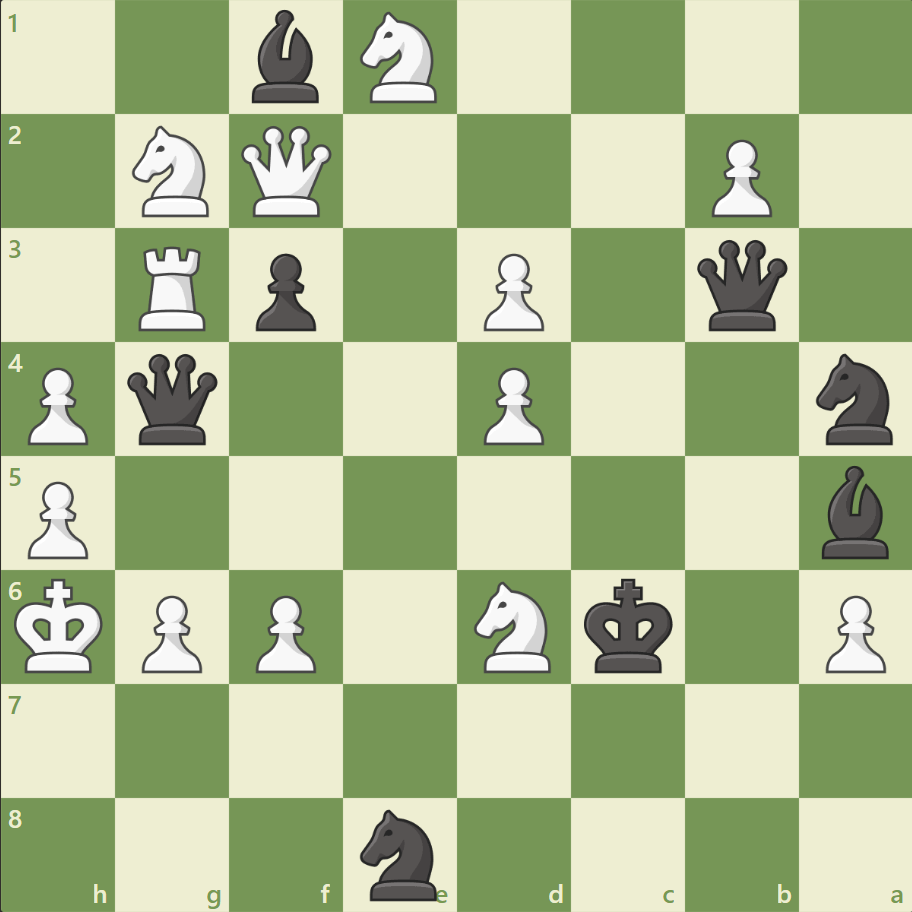K: (11, 571, 111, 679)
N: (351, 7, 449, 110), (124, 121, 222, 223), (465, 575, 562, 677)
P: (247, 586, 322, 677), (133, 586, 208, 677), (20, 473, 95, 564), (474, 359, 549, 450), (20, 359, 95, 450), (474, 246, 549, 337), (701, 132, 776, 223), (815, 586, 889, 677)
Q: (237, 122, 336, 222)
R: (133, 239, 215, 336)
b: (812, 460, 896, 563), (244, 6, 328, 109)
k: (579, 571, 679, 679)
n: (351, 802, 449, 904), (806, 348, 903, 450)
p: (247, 246, 322, 337)
q: (124, 349, 223, 449), (691, 236, 790, 335)
